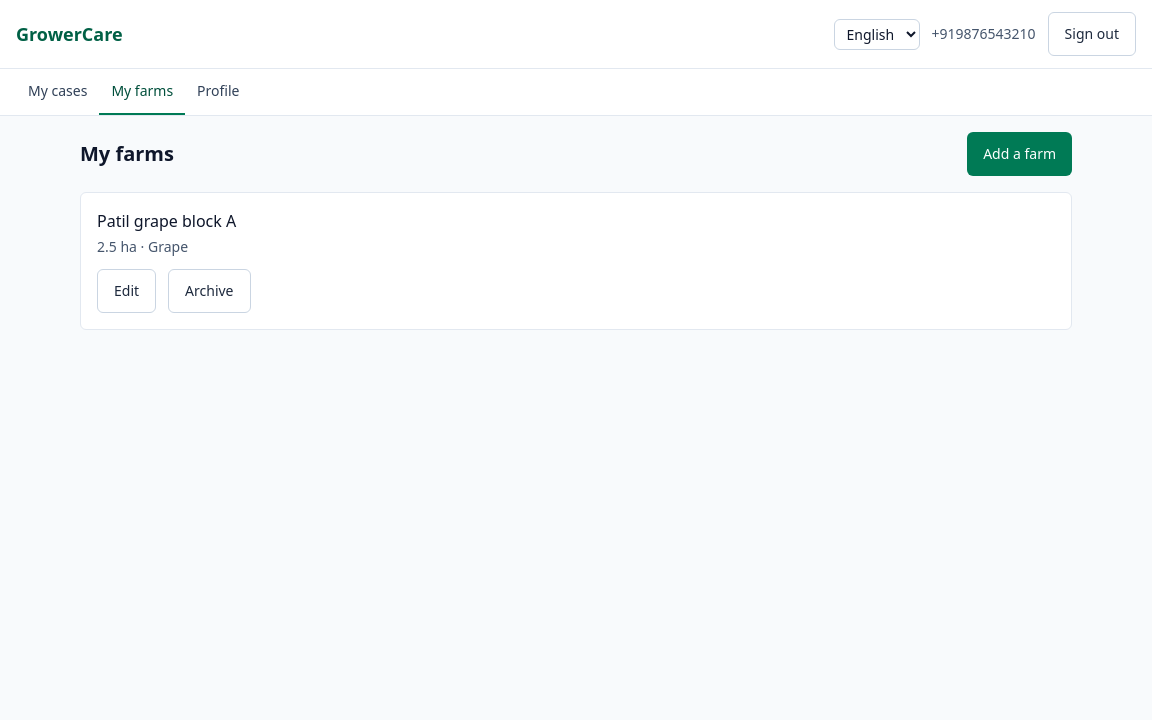
SPEC-FE-02 R105 farms (PRD J3) › FE-E105 editing sends a merge patch with the farm's version
Click the button with aria-label "Edit Patil grape block A".
click(127, 291)  # box [97, 269, 156, 313]
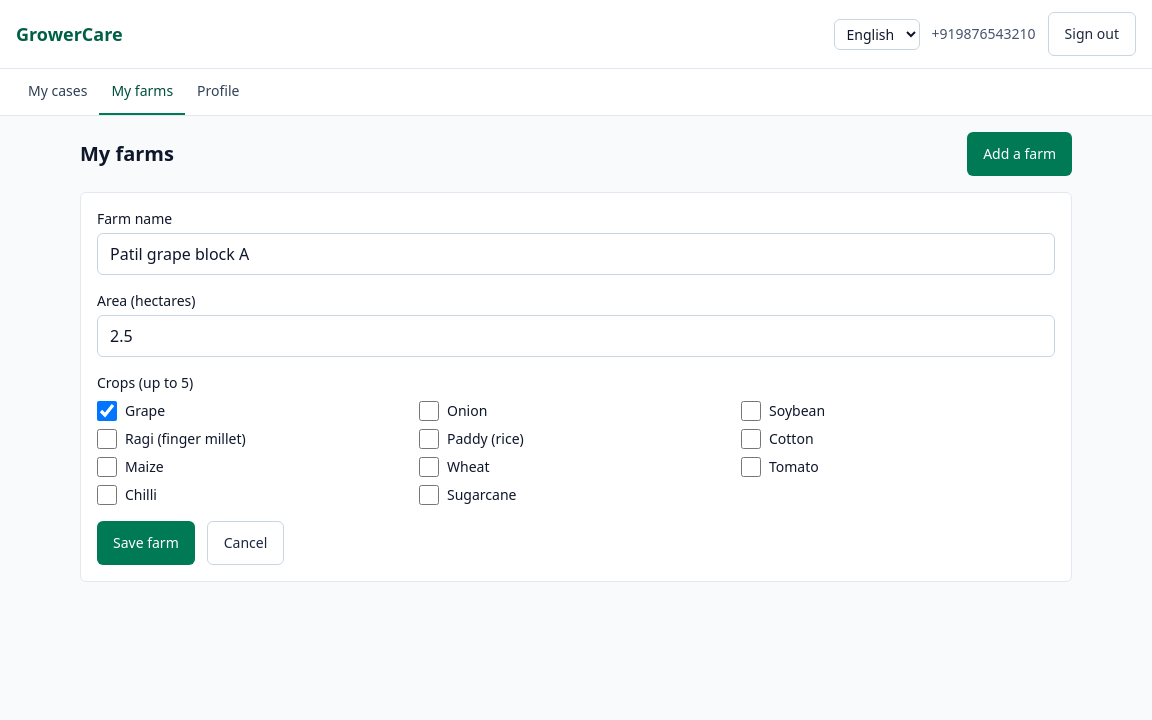
Replace the text in the field labelled "Farm name" with "Grape block A" at (576, 254), box [97, 233, 1055, 275]
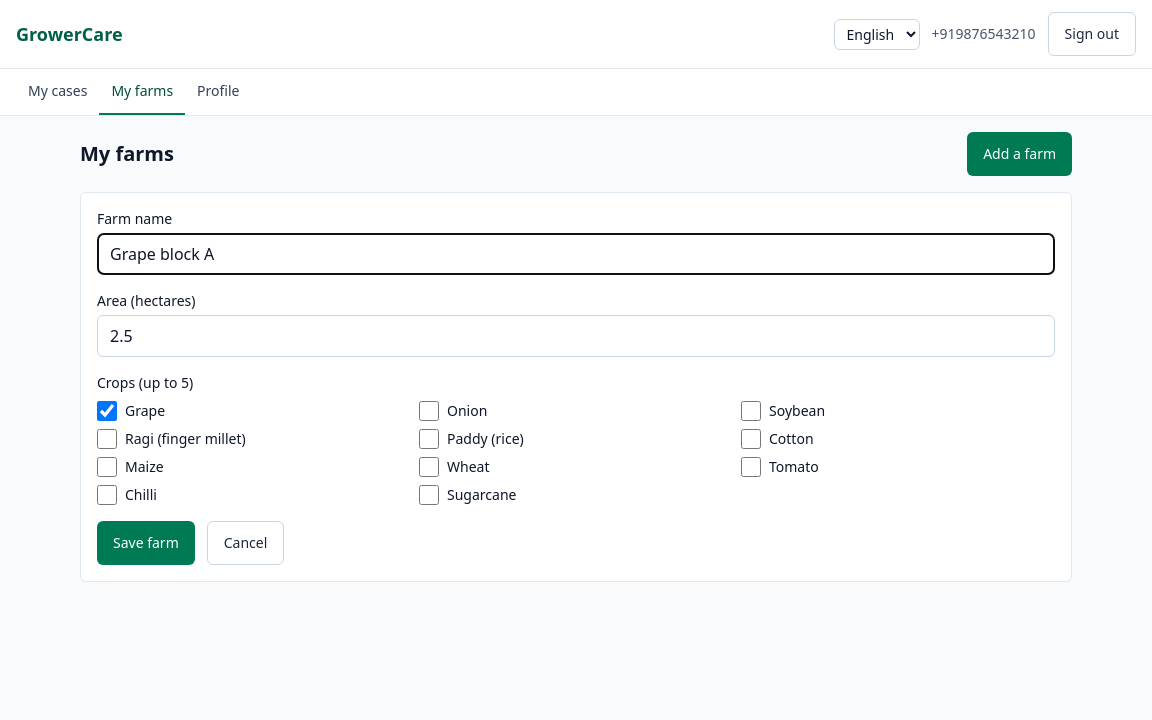
Click the button "Save farm".
click(146, 543)  # box [97, 521, 195, 565]
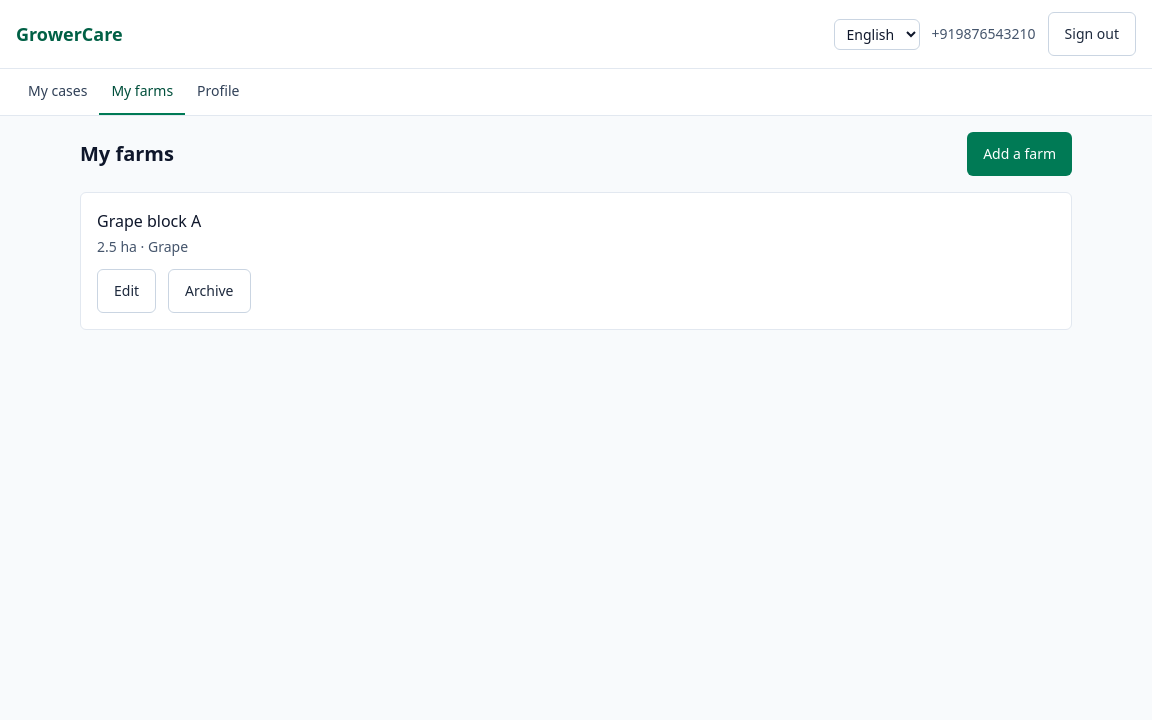
Now the text "Grape block A" is shown, box [97, 210, 201, 232]
